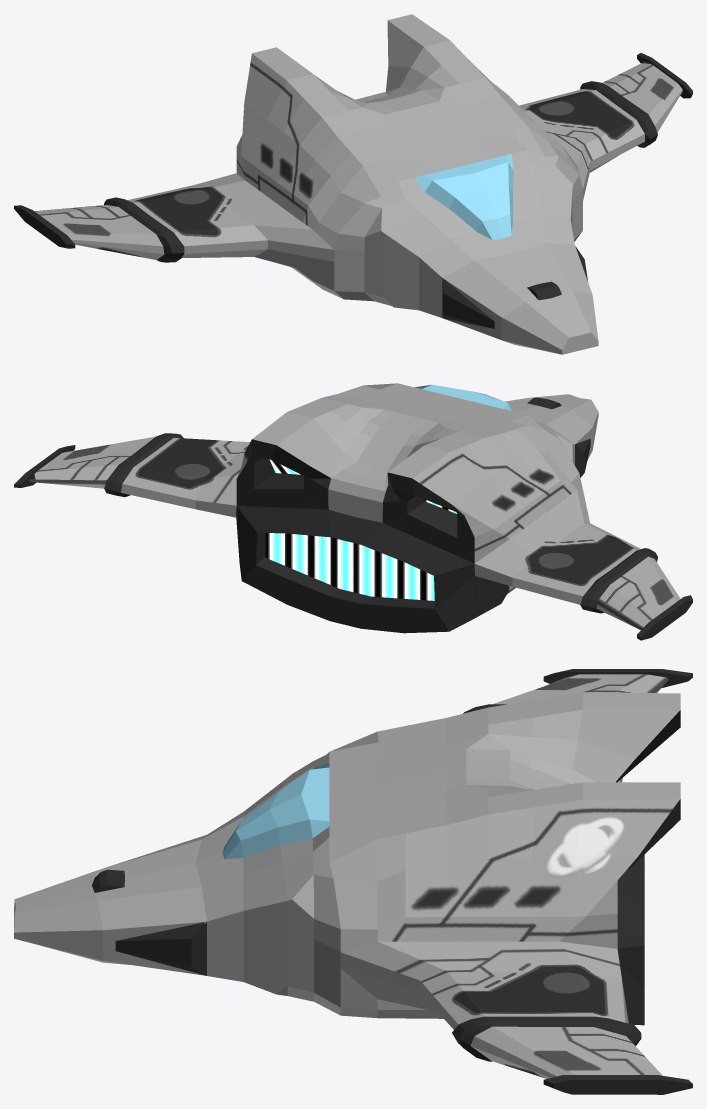
File: shipmodel.fbx
The picture shows the model from 3 angles, top to bottom: view 1: azimuth 30°, elevation 25°; view 2: azimuth 150°, elevation 25°; view 3: azimuth 270°, elevation 25°; orthographic projection. The views are drawn at different scales.
Parts seen in each view (by area): view 1: Playership; view 2: Playership; view 3: Playership.
Part boxes in pixels (left/top/right/bottom): Playership: left=14, top=14, right=692, bottom=354; Playership: left=14, top=383, right=692, bottom=640; Playership: left=14, top=669, right=692, bottom=1094.
Bounding box in the file's own units: 168 × 45.1 × 118.
Materials: 1 (1 with a texture image).
